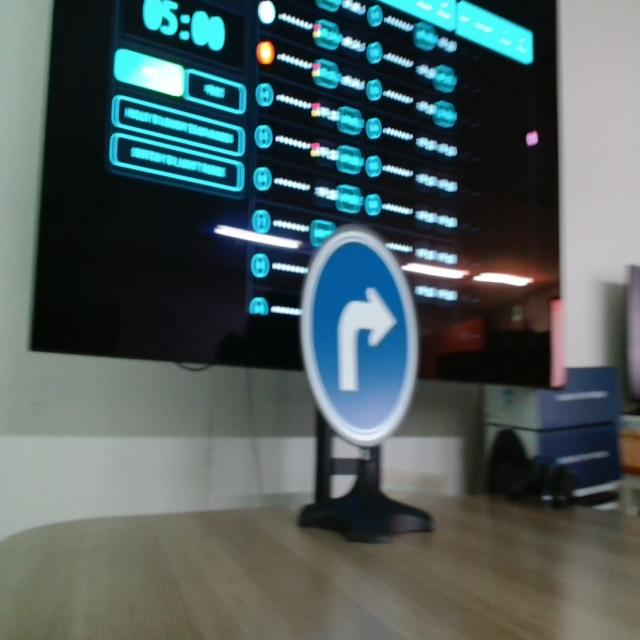right_dierection: (302, 214, 443, 471)
